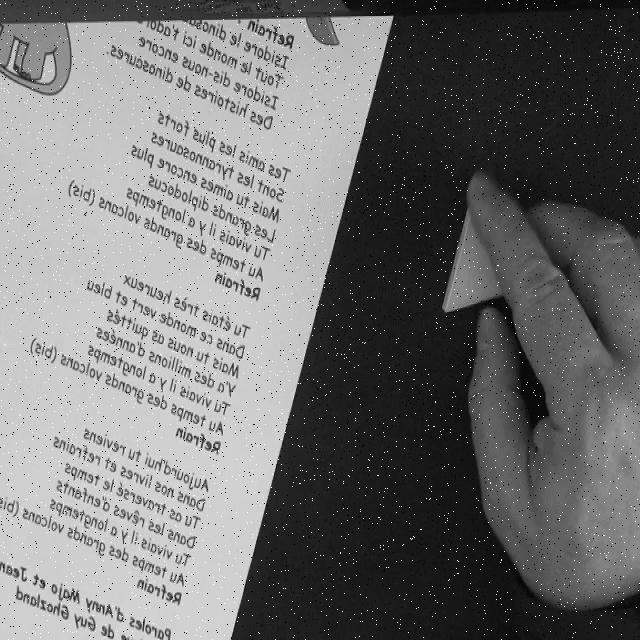triangle: (443, 199, 529, 315)
